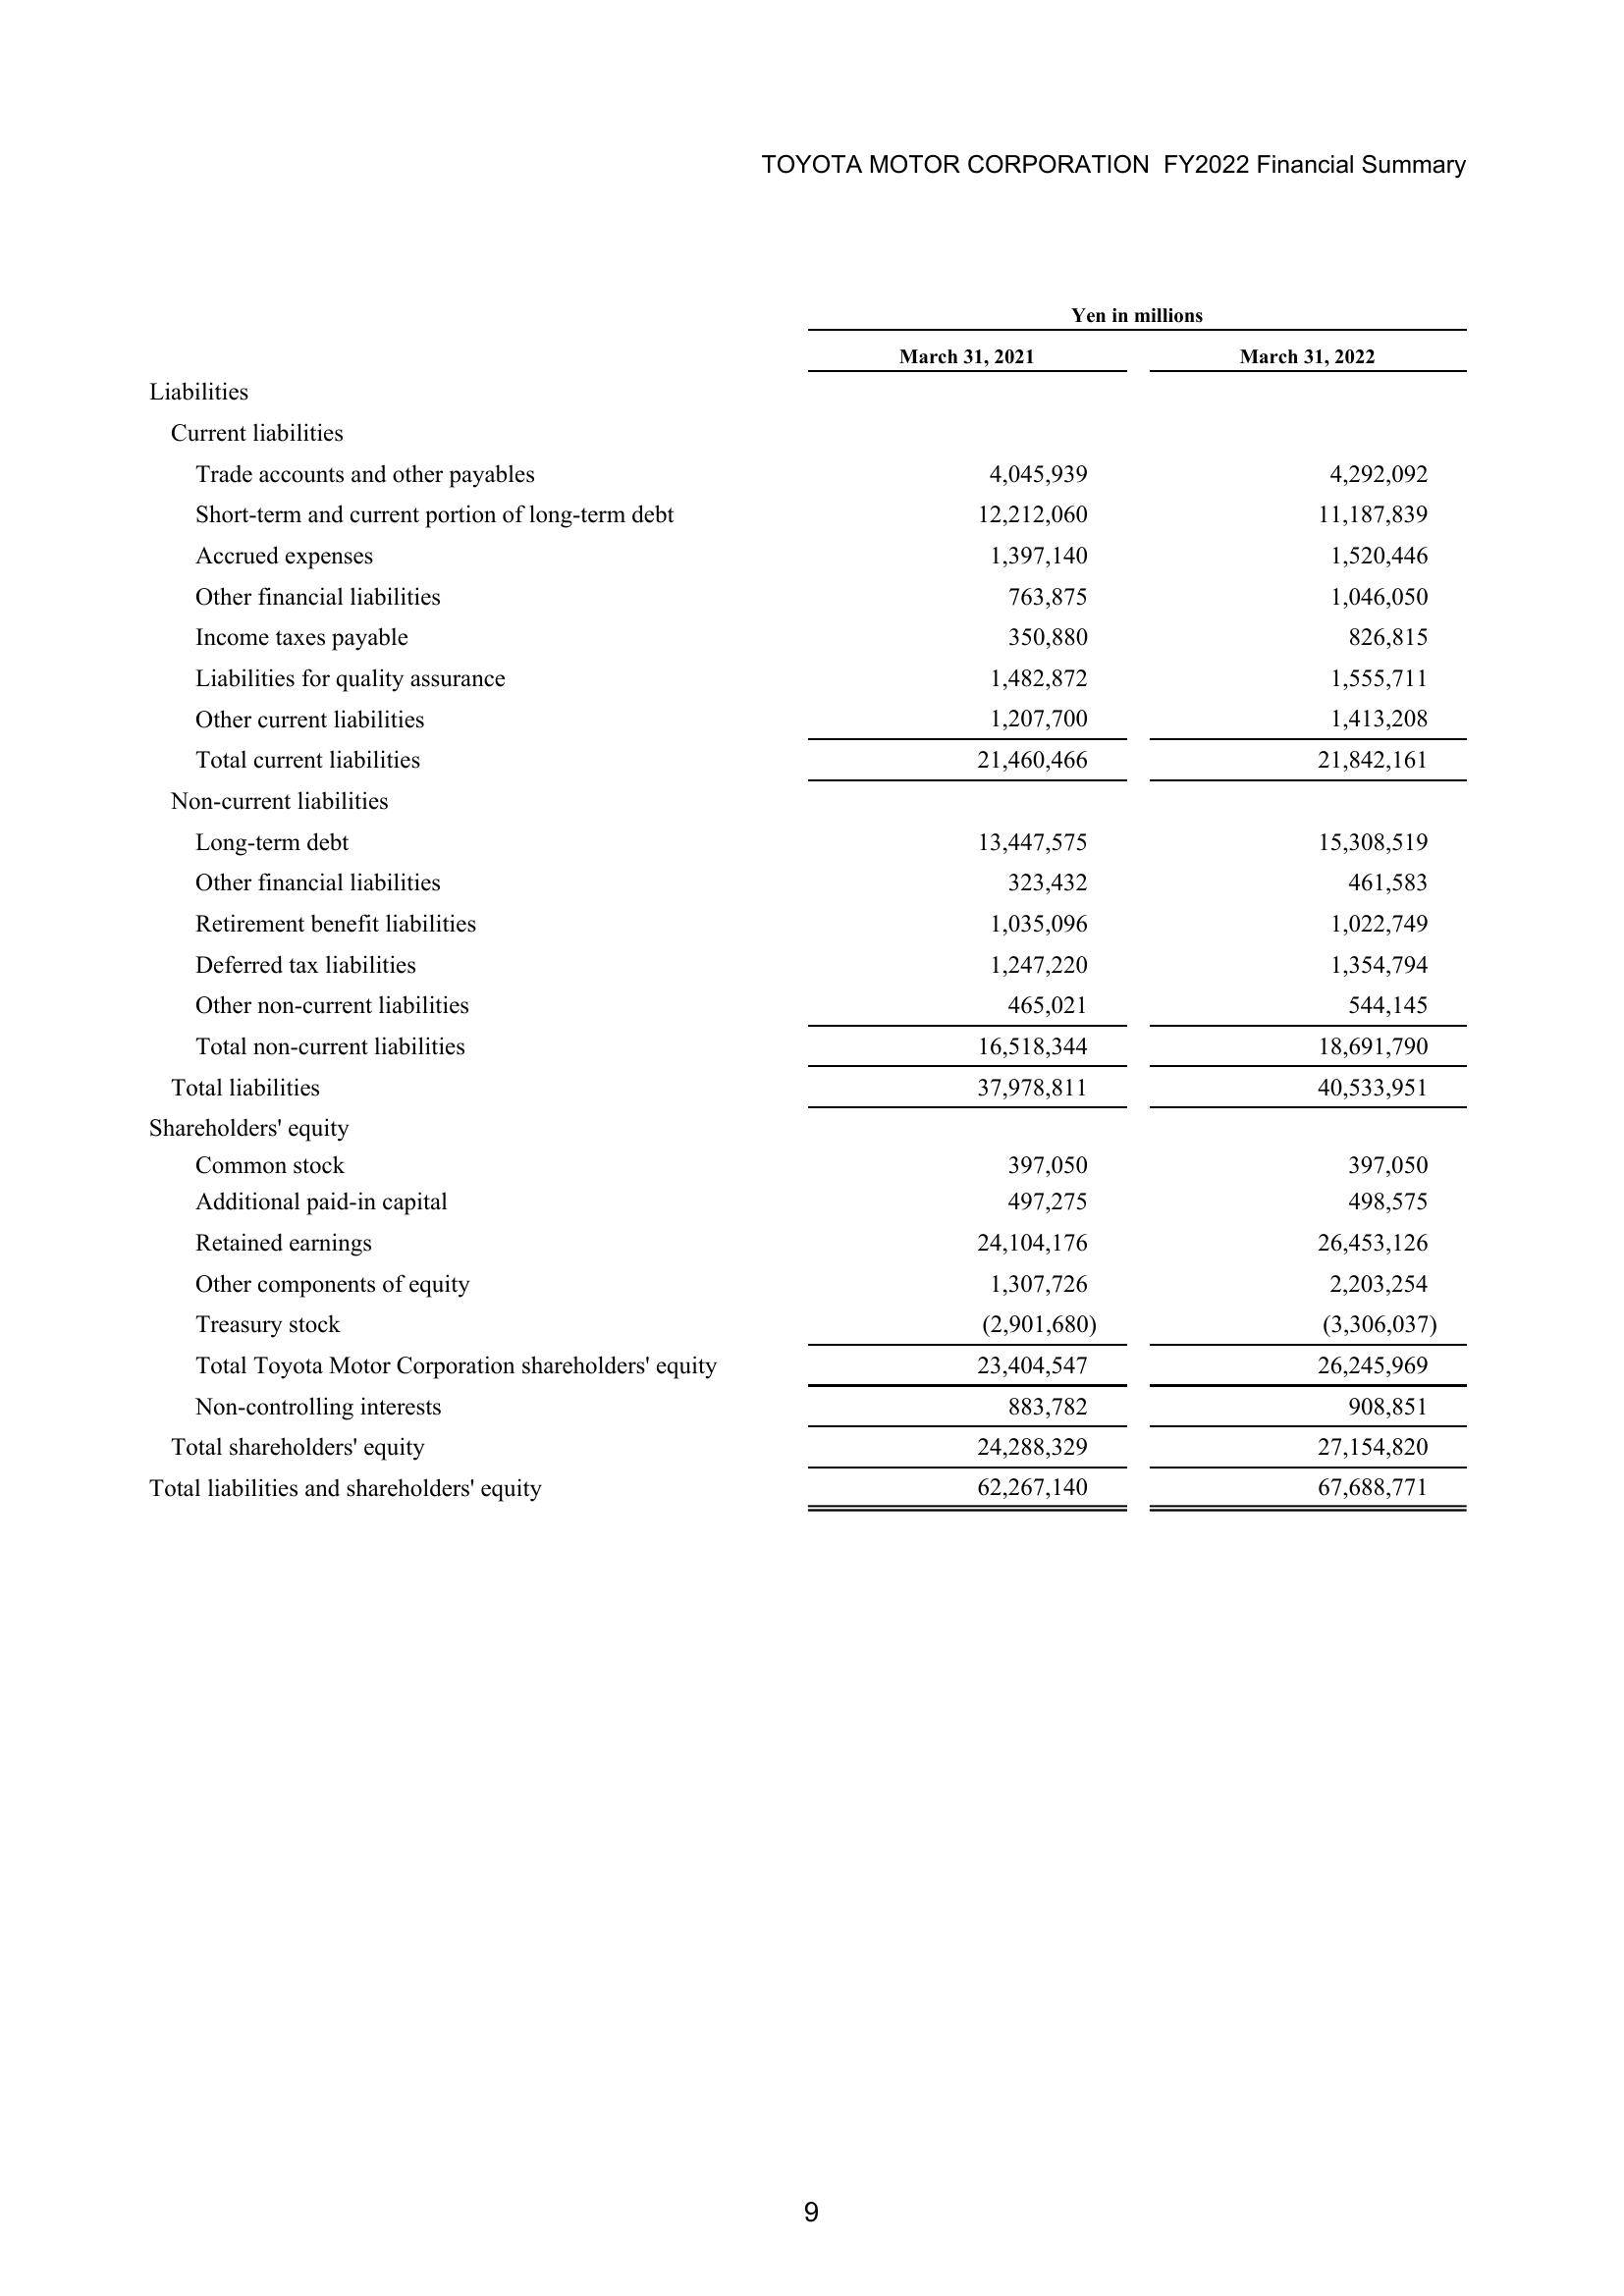Footer: (0, 2131, 1624, 2296)
Header: (0, 0, 1624, 202)
Table: (114, 264, 1483, 1535)
